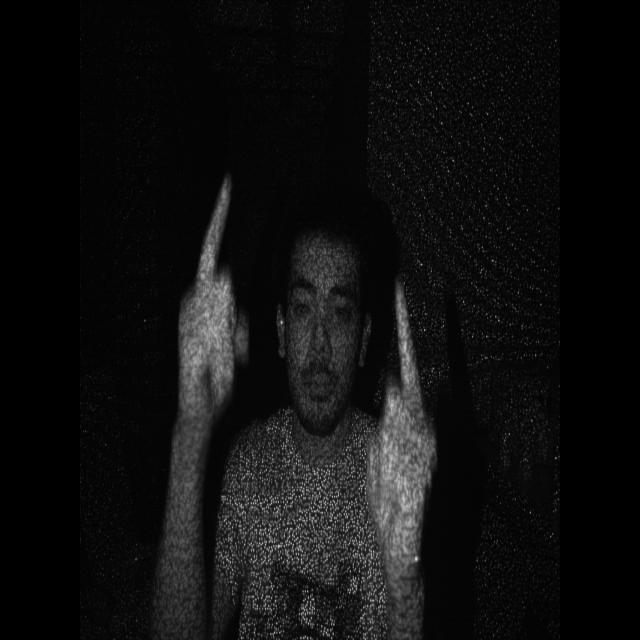STARS: (355, 278, 459, 565), (163, 142, 258, 442)
